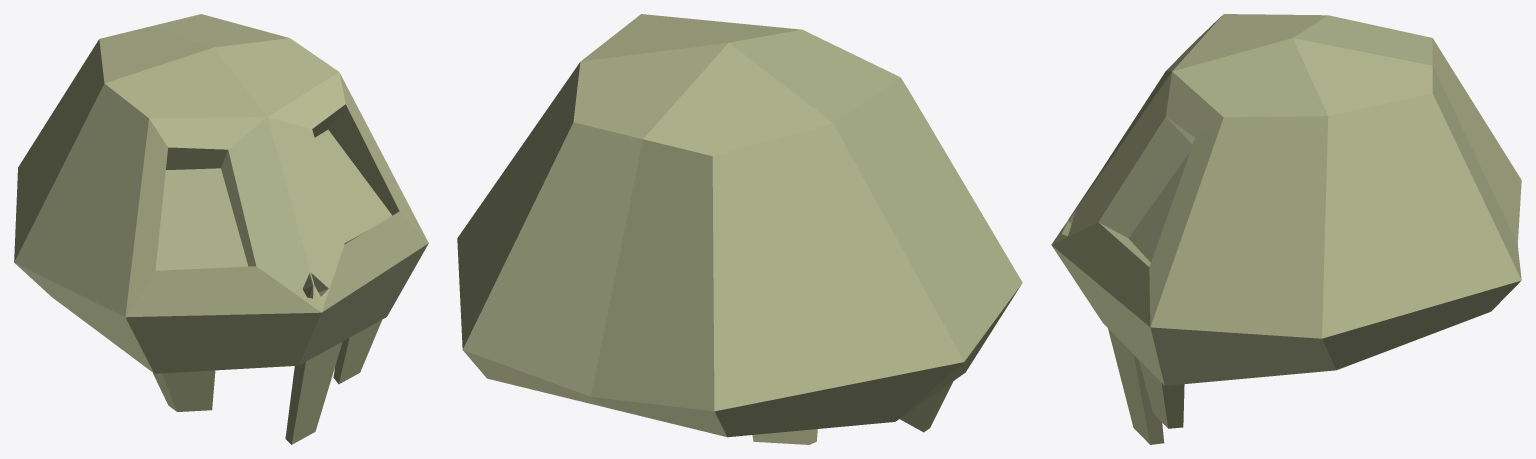
File: Skull Model.fbx
3 views of the same model, side by side, from view 1: azimuth 30°, elevation 25°; view 2: azimuth 150°, elevation 25°; view 3: azimuth 270°, elevation 25° (orthographic). The views are drawn at different scales.
Parts seen in each view (by area): view 1: Skull; view 2: Skull; view 3: Skull.
Part boxes in pixels (left/top/right/bottom): Skull: left=14, top=14, right=428, bottom=444; Skull: left=457, top=14, right=1022, bottom=444; Skull: left=1051, top=14, right=1521, bottom=444.
Bounding box in the file's own units: 170 × 152 × 167.
